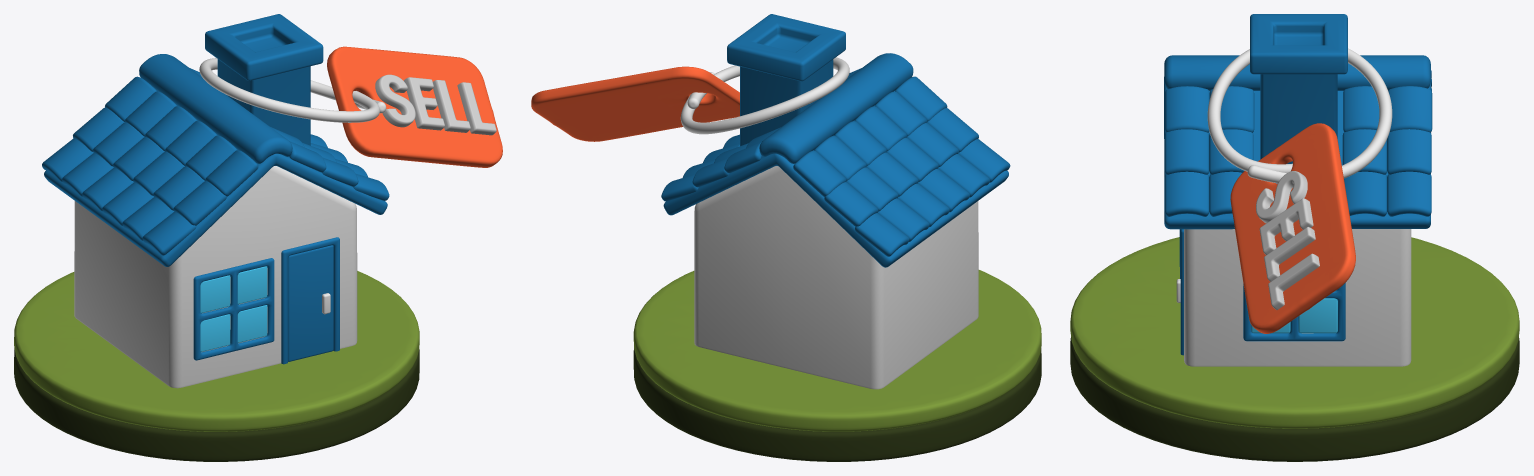
Rendered from sell-property-animated-3d-icon-1447705250157.glb.
3 renders of one model, left to right at view 1: azimuth 30°, elevation 25°; view 2: azimuth 150°, elevation 25°; view 3: azimuth 270°, elevation 25°, orthographic. The views are drawn at different scales.
Visible parts, largest first — view 1: Grass.004, Home.014, Roof 1.006, Land.004, Tag, Cimney, Door.013, Roof 2.007, Sell Text, Window Glass 1.006, Window Frame 1.006, Rope (+1 smaller); view 2: Home.014, Grass.004, Roof 1.006, Land.004, Tag, Cimney, Roof 2.007, Rope; view 3: Grass.004, Roof 1.006, Home.014, Land.004, Tag, Cimney, Sell Text, Rope, Roof 2.007, Window Frame 1.007, Window Glass 1.007, Door Frame.006.
Part boxes in pixels (x1=…): Grass.004: x1=14, y1=271, x2=419, y2=431; Home.014: x1=74, y1=166, x2=357, y2=388; Roof 1.006: x1=42, y1=54, x2=389, y2=255; Land.004: x1=14, y1=348, x2=419, y2=461; Tag: x1=327, y1=46, x2=502, y2=167; Cimney: x1=205, y1=14, x2=323, y2=145; Door.013: x1=288, y1=245, x2=333, y2=361; Roof 2.007: x1=44, y1=91, x2=387, y2=266; Sell Text: x1=375, y1=74, x2=496, y2=135; Window Glass 1.006: x1=200, y1=266, x2=267, y2=351; Window Frame 1.006: x1=193, y1=258, x2=274, y2=360; Rope: x1=199, y1=58, x2=386, y2=122; Home.014: x1=694, y1=166, x2=978, y2=389; Grass.004: x1=633, y1=270, x2=1041, y2=431; Roof 1.006: x1=661, y1=53, x2=1010, y2=256; Land.004: x1=633, y1=348, x2=1041, y2=461; Tag: x1=531, y1=66, x2=739, y2=141; Cimney: x1=727, y1=14, x2=845, y2=145; Roof 2.007: x1=663, y1=91, x2=1008, y2=267; Rope: x1=680, y1=57, x2=849, y2=134; Grass.004: x1=1070, y1=237, x2=1519, y2=428; Roof 1.006: x1=1164, y1=55, x2=1432, y2=216; Home.014: x1=1184, y1=229, x2=1411, y2=366; Land.004: x1=1070, y1=337, x2=1519, y2=461; Tag: x1=1230, y1=123, x2=1355, y2=333; Cimney: x1=1250, y1=14, x2=1347, y2=163; Sell Text: x1=1256, y1=171, x2=1319, y2=309; Rope: x1=1207, y1=48, x2=1392, y2=183; Roof 2.007: x1=1164, y1=77, x2=1430, y2=229; Window Frame 1.007: x1=1243, y1=283, x2=1345, y2=341; Window Glass 1.007: x1=1251, y1=298, x2=1337, y2=333; Door Frame.006: x1=1180, y1=229, x2=1183, y2=355.
Bounding box in the file's own units: 2.6 × 1.77 × 1.99.
